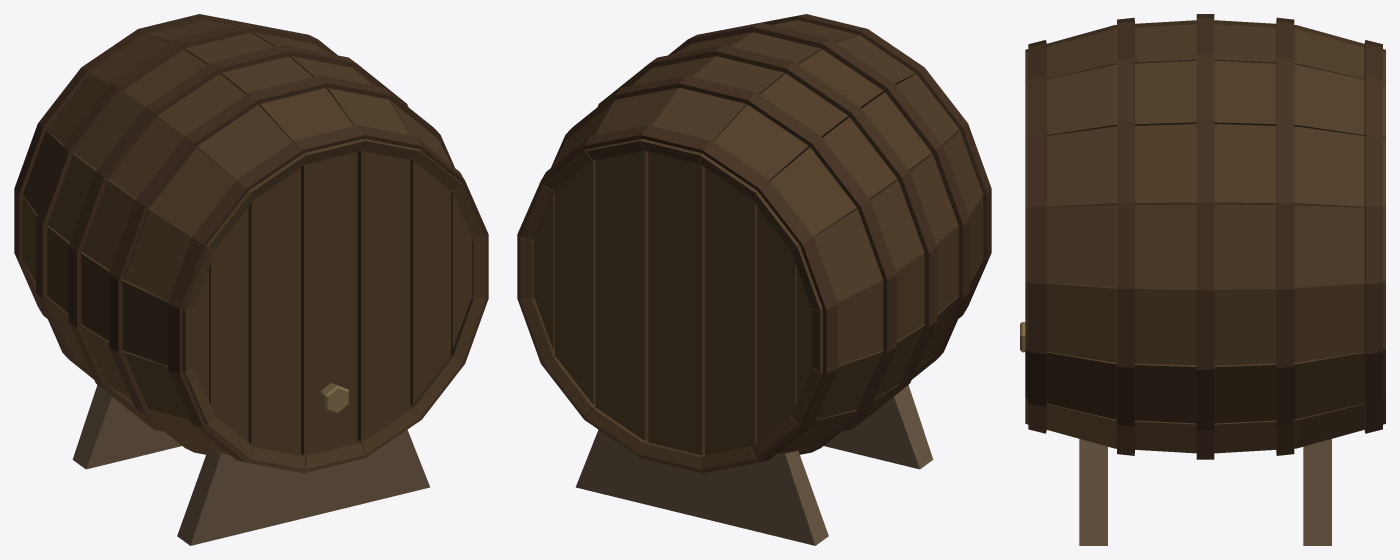
Rendered from Barrel_Big.glb.
The picture shows the model from 3 angles, left to right: view 1: azimuth 30°, elevation 25°; view 2: azimuth 150°, elevation 25°; view 3: azimuth 270°, elevation 25°; orthographic projection. The views are drawn at different scales.
Visible parts, largest first — view 1: Barrel_Big.001; view 2: Barrel_Big.001; view 3: Barrel_Big.001.
Part boxes in pixels (x1,y1,x2,y2): Barrel_Big.001: [14, 14, 488, 545]; Barrel_Big.001: [517, 14, 991, 545]; Barrel_Big.001: [1020, 14, 1385, 545].
Size of the model in its own units: 2.51 by 2.79 by 2.07.
Materials: 2 (2 with a texture image).
